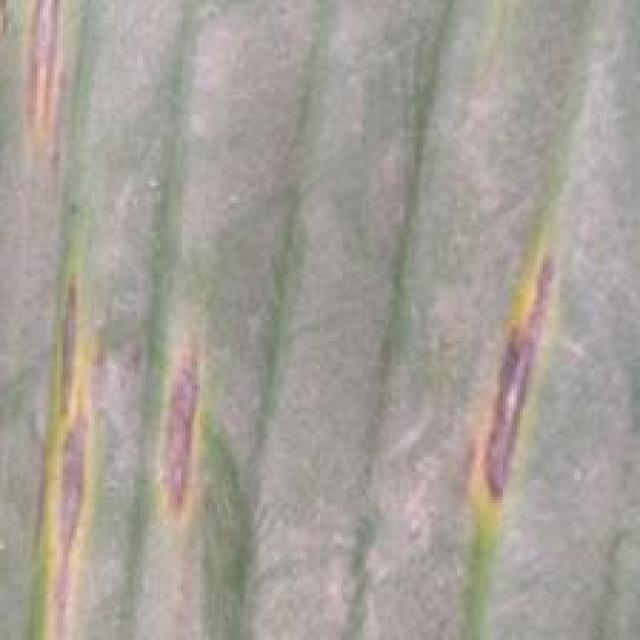Early_leaf_spot: (14, 288, 101, 623), (458, 267, 550, 546), (0, 0, 80, 177), (143, 330, 216, 513)
